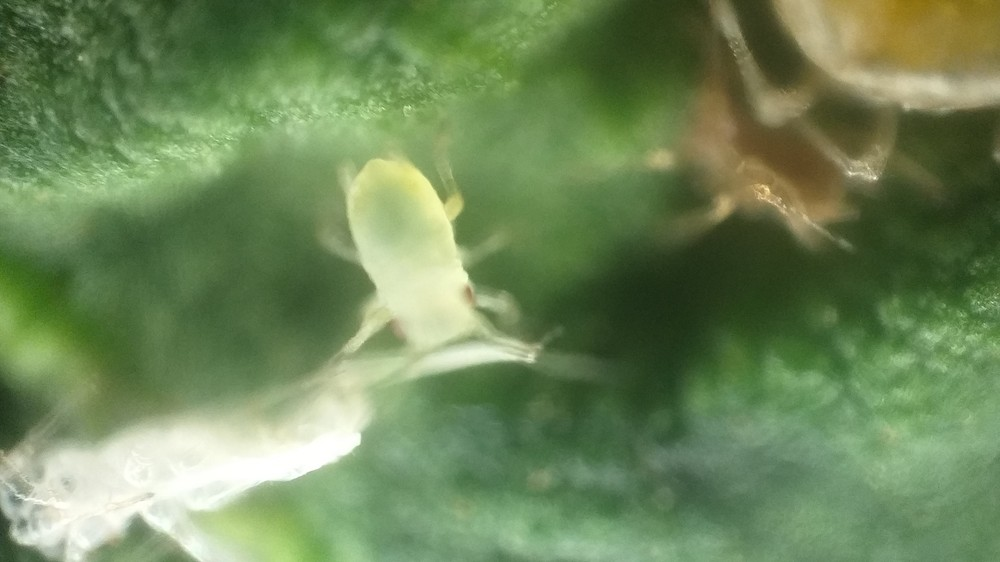Pulgon: (287, 140, 592, 425)
